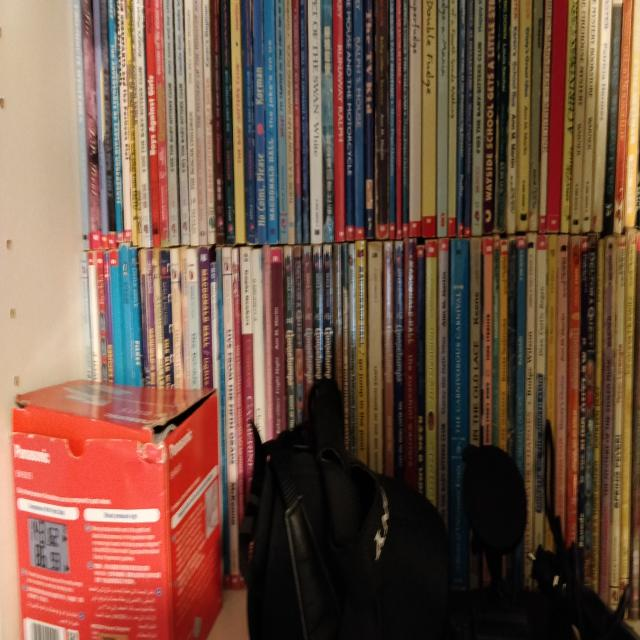book: (220, 246, 240, 603), (354, 242, 371, 570), (424, 238, 440, 578), (536, 232, 547, 588)
